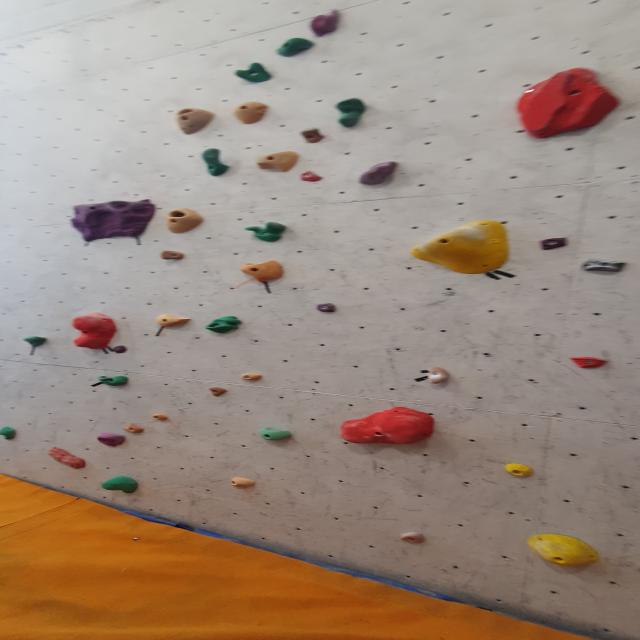Crimp: (513, 67, 627, 140), (67, 197, 159, 242), (46, 446, 88, 470), (568, 354, 610, 372), (535, 236, 573, 253), (500, 462, 538, 478), (229, 478, 258, 492), (399, 531, 428, 545), (299, 170, 325, 184), (207, 387, 229, 398), (240, 374, 264, 384), (150, 414, 170, 423)
Jug: (333, 94, 372, 128), (200, 146, 231, 178), (232, 62, 276, 84), (274, 36, 316, 58), (246, 222, 289, 243), (421, 365, 452, 384), (258, 427, 294, 442), (299, 128, 326, 146), (97, 376, 131, 388), (23, 337, 50, 350), (160, 250, 189, 262)
Pinch: (354, 162, 400, 188), (238, 262, 287, 286), (256, 150, 304, 173), (579, 256, 633, 276), (306, 8, 344, 36), (230, 100, 272, 125), (153, 314, 192, 329), (122, 424, 148, 434)
Pocket: (171, 106, 220, 136), (164, 207, 206, 234), (204, 317, 243, 334)
Sloper: (405, 220, 513, 280), (337, 407, 439, 447), (524, 532, 603, 569), (69, 312, 121, 351), (100, 476, 142, 497), (95, 432, 128, 448), (0, 426, 18, 441)
